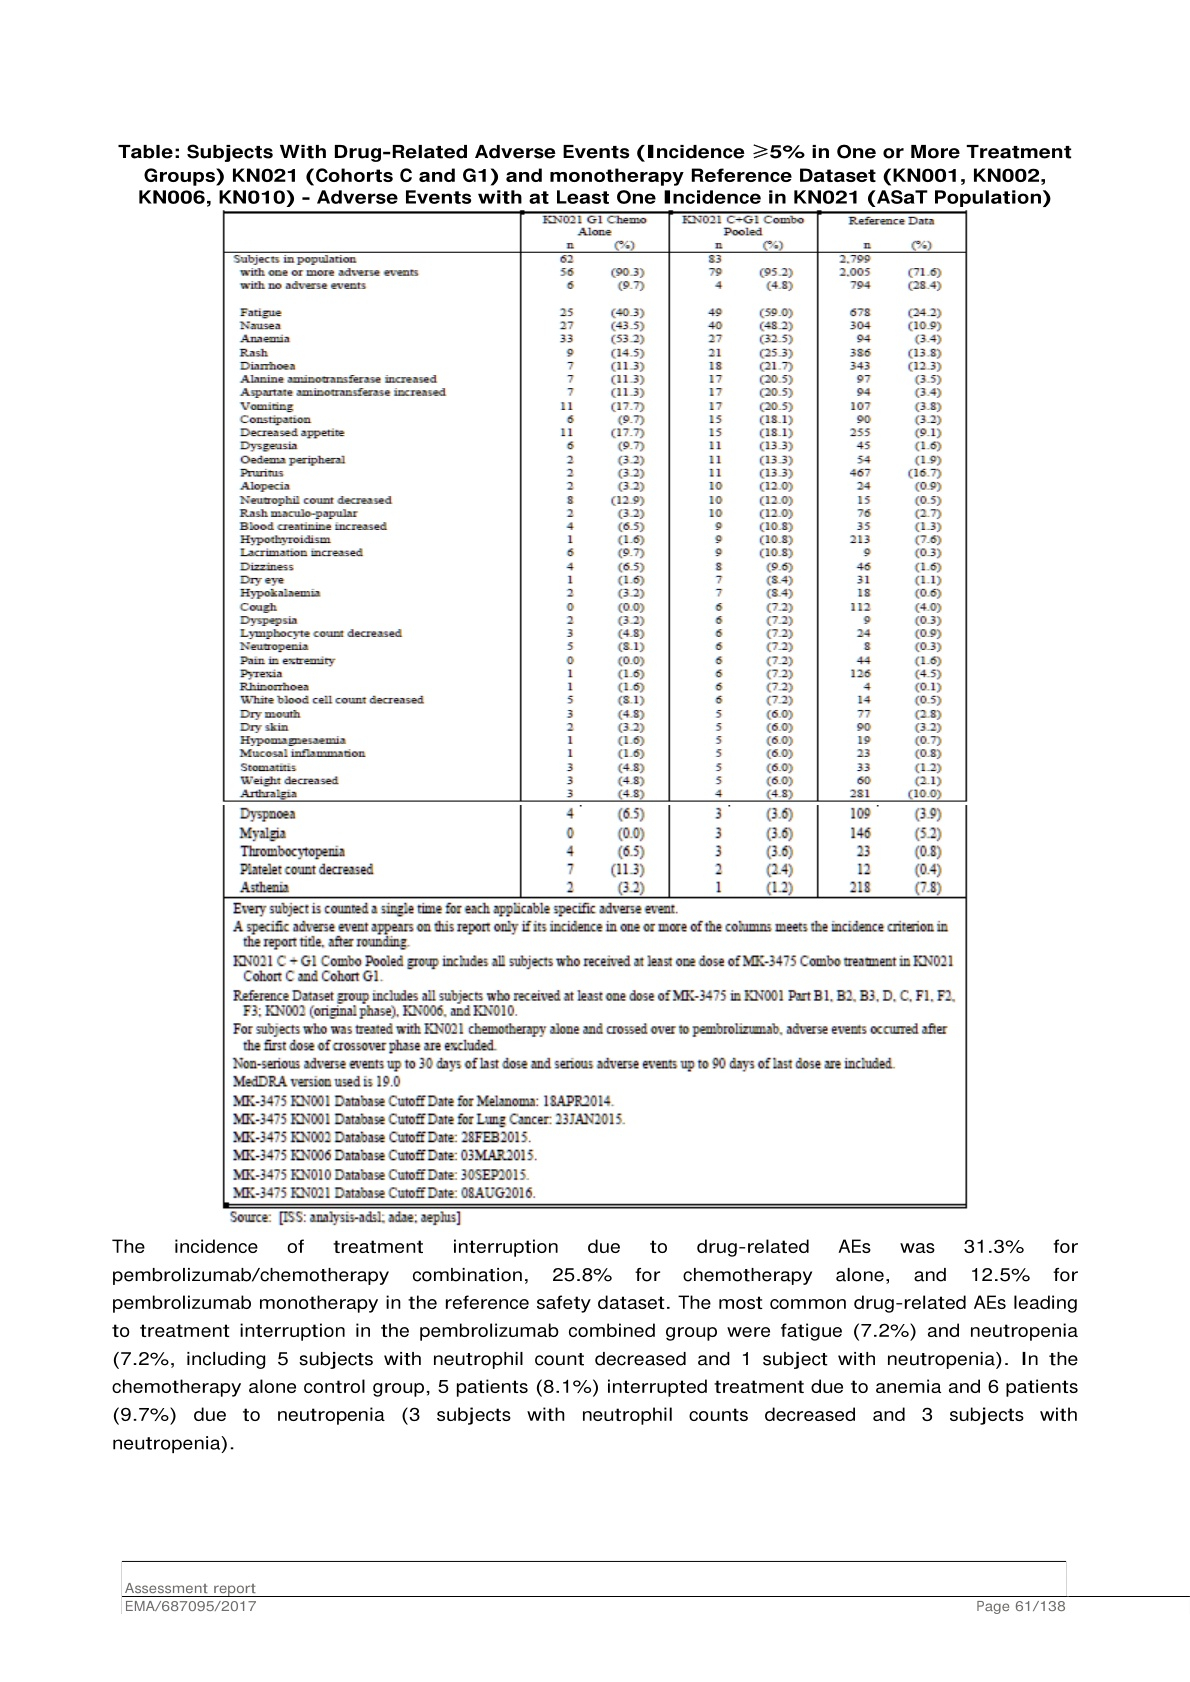merged_cells: (222, 210, 968, 1209)
